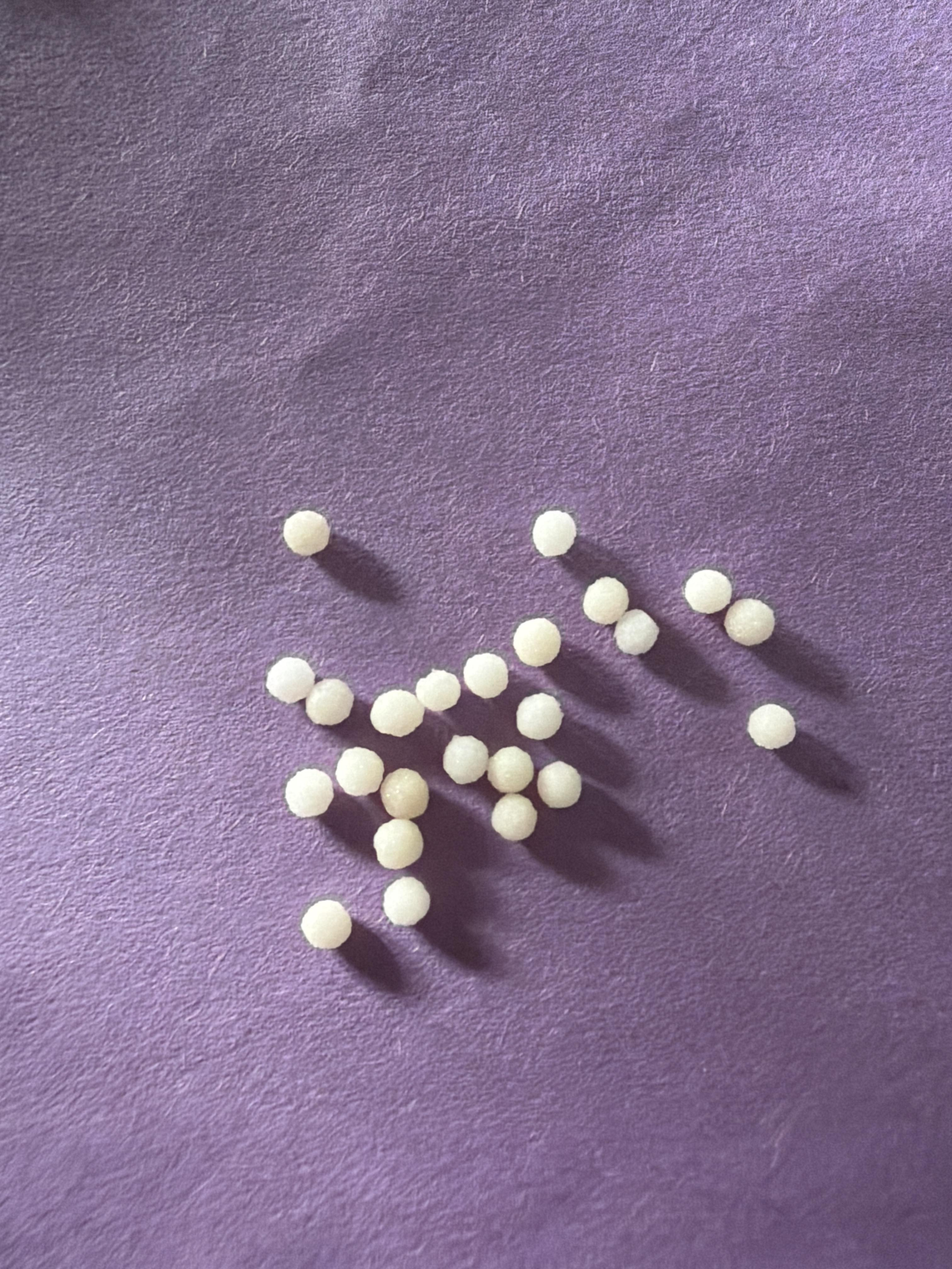pill: (373, 818, 423, 870), (370, 689, 424, 737), (301, 899, 352, 949), (380, 769, 429, 819), (335, 747, 384, 796), (724, 598, 774, 646), (513, 617, 561, 667), (382, 876, 430, 926), (285, 768, 333, 817), (305, 679, 354, 726), (491, 793, 537, 842), (265, 657, 314, 703), (747, 703, 796, 749), (487, 746, 534, 793), (516, 693, 563, 740), (282, 510, 330, 556), (582, 577, 628, 625), (683, 569, 732, 614), (462, 652, 508, 699), (443, 736, 488, 784), (537, 761, 581, 808), (532, 510, 576, 557), (615, 609, 659, 655), (415, 669, 461, 712)
